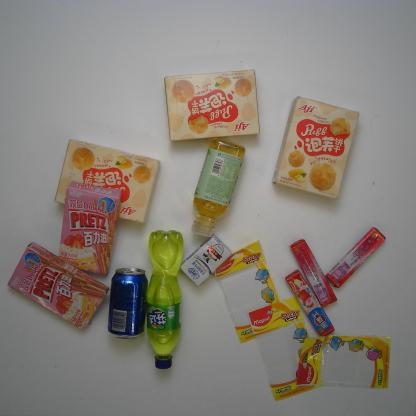Candy: (326, 226, 386, 289), (289, 238, 338, 307), (285, 269, 335, 336)
Dessert: (6, 241, 109, 332), (270, 96, 360, 199), (53, 139, 161, 224), (162, 68, 262, 141), (54, 182, 121, 277)
Drink: (144, 229, 183, 371), (191, 139, 247, 237), (107, 268, 146, 342)
Milk: (180, 236, 232, 287)
Stationery: (246, 297, 326, 400), (213, 241, 286, 344), (296, 336, 392, 391)
